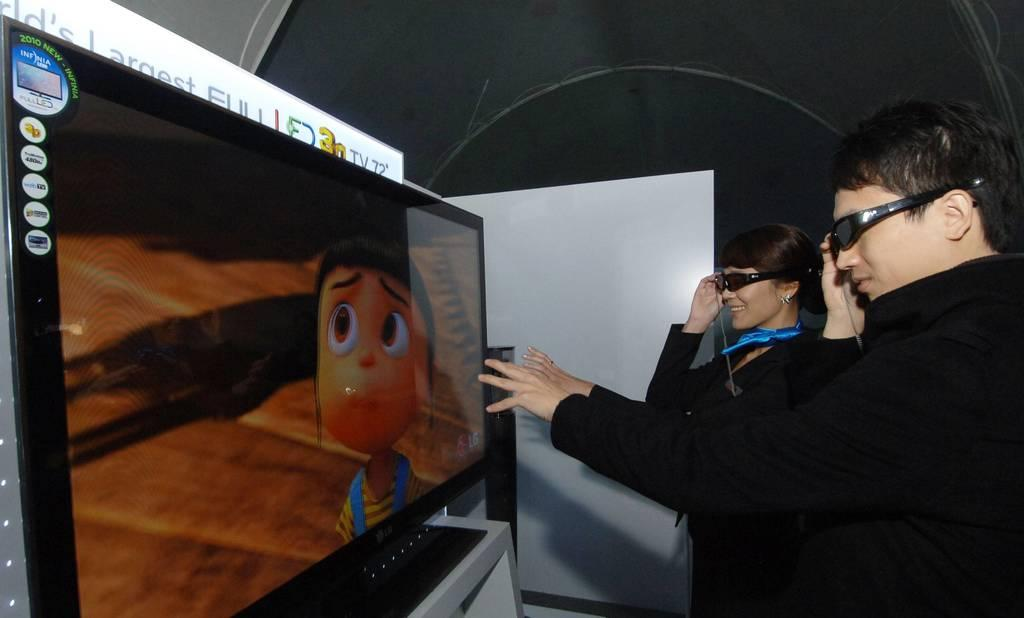Laptop: (0, 12, 524, 616)
